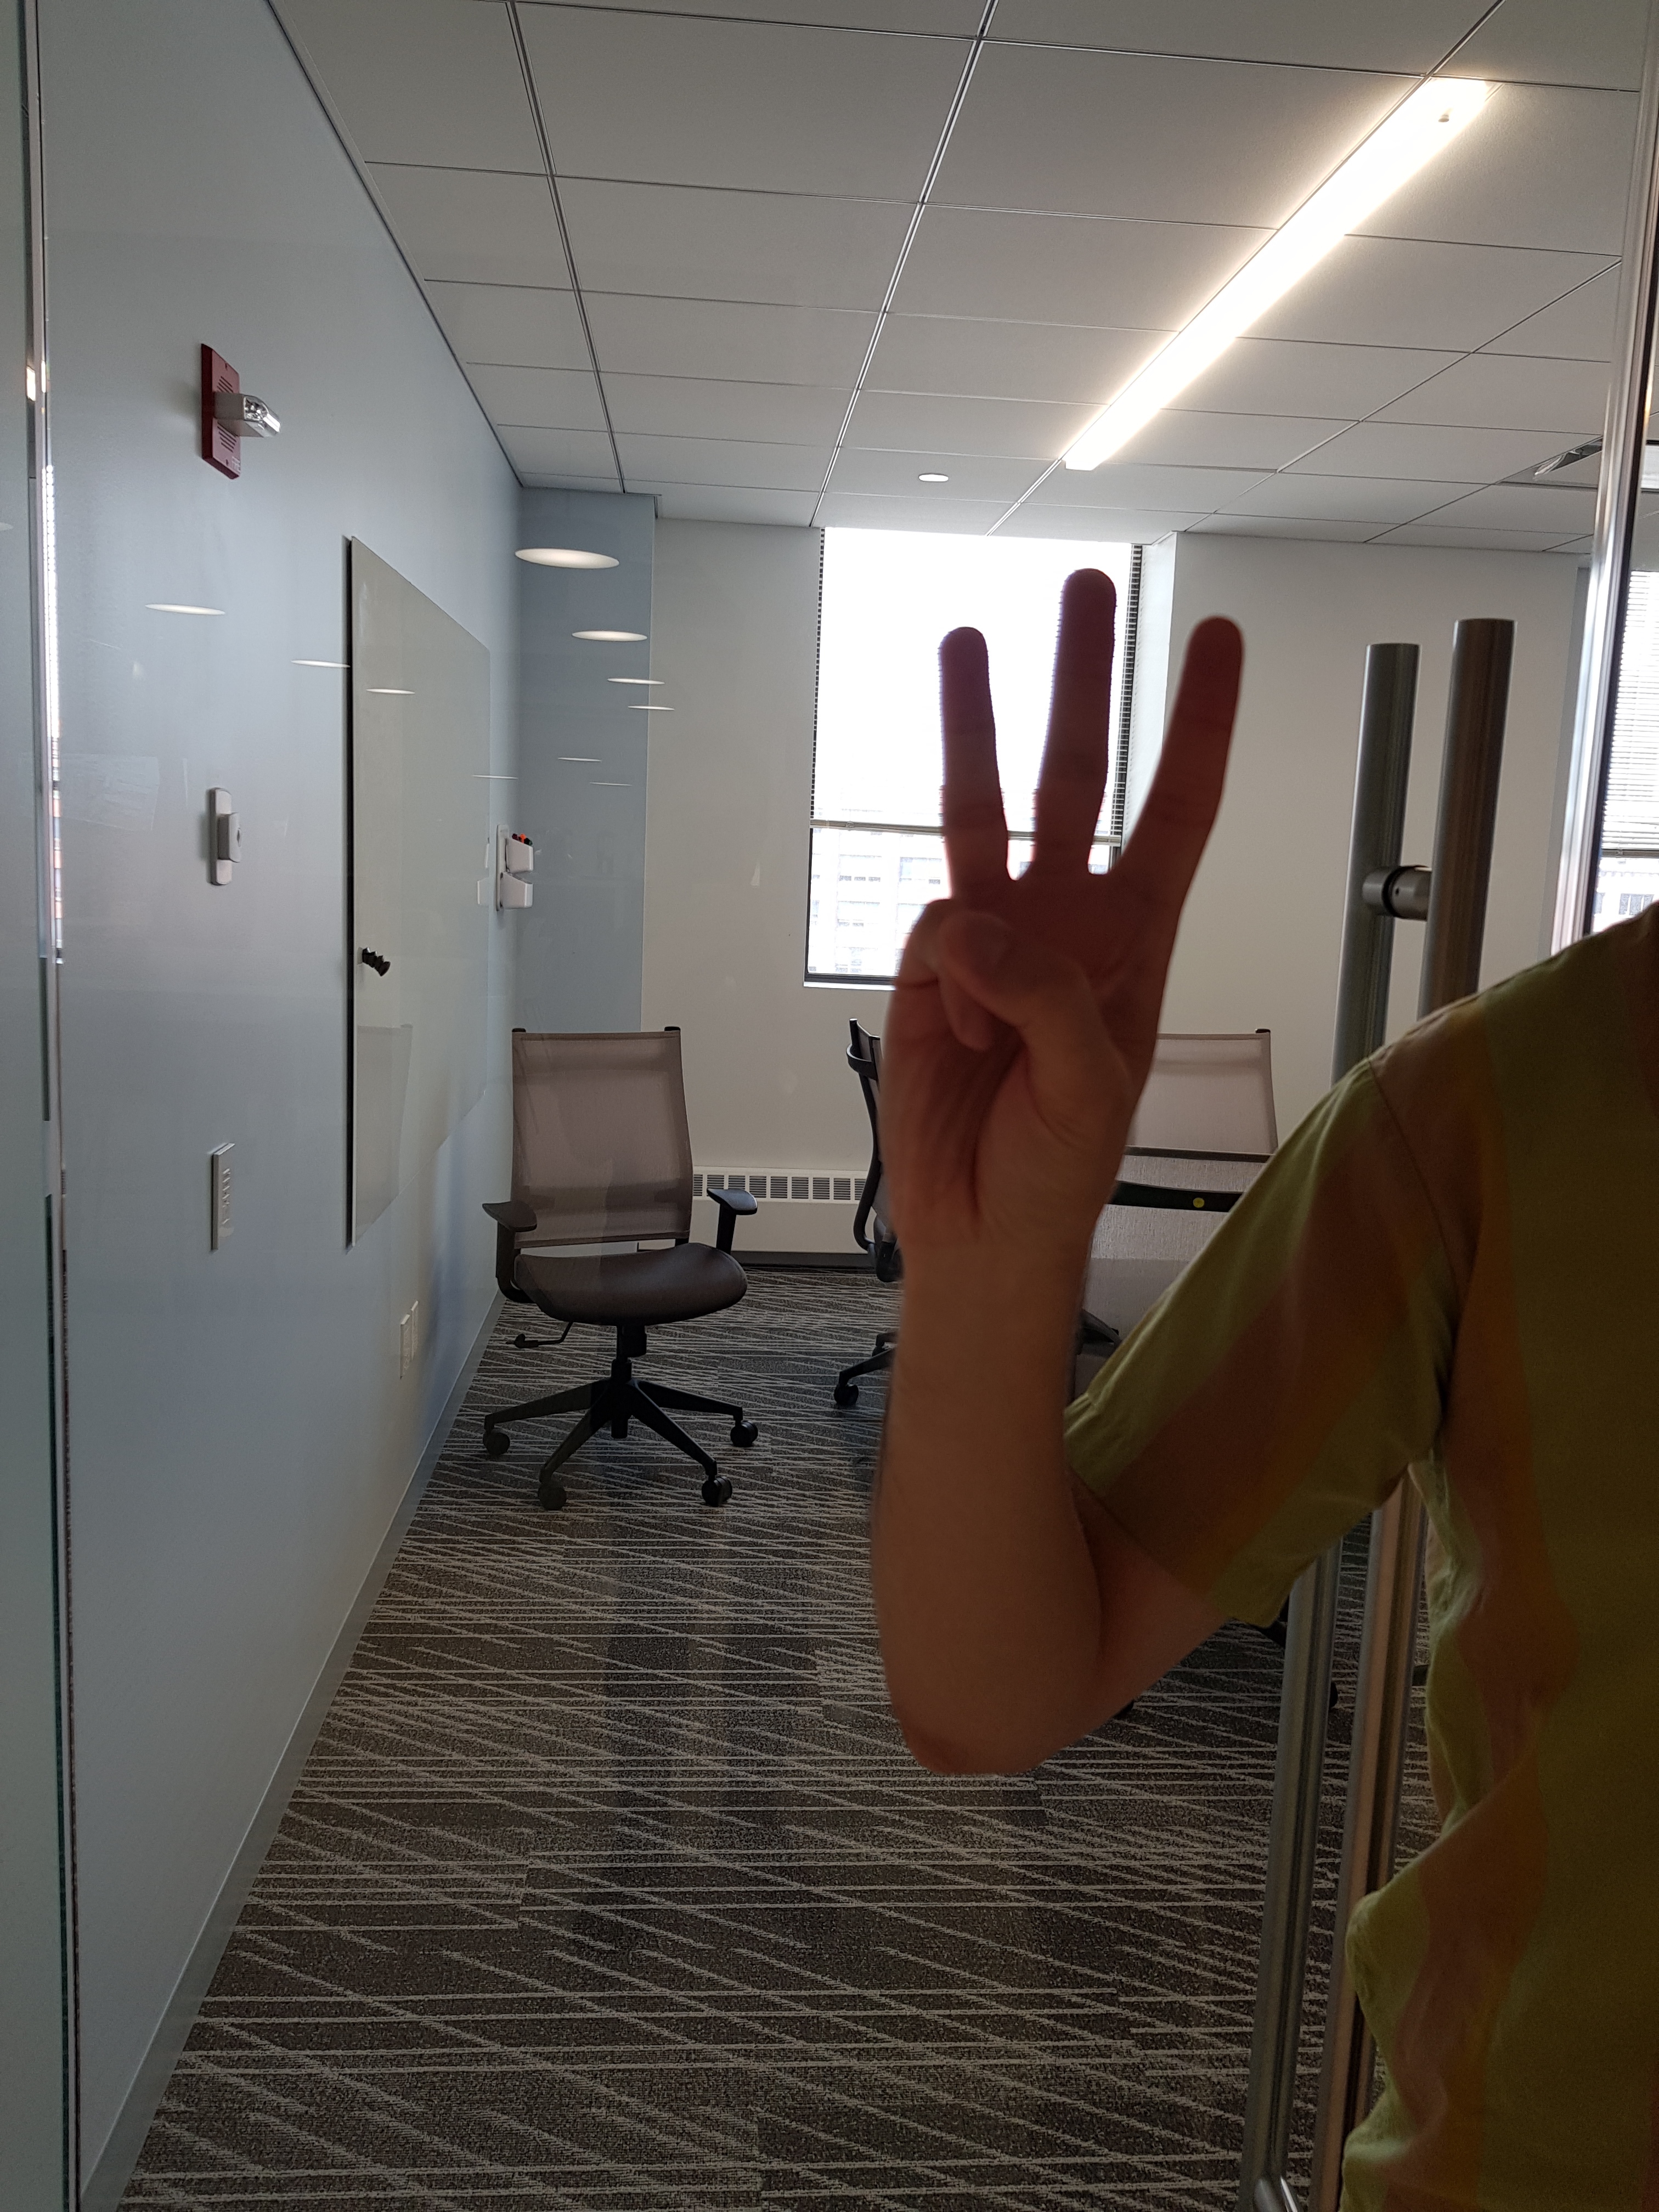w: (843, 554, 1270, 1235)
